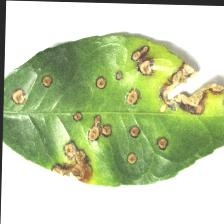canker: (5, 38, 224, 187)
